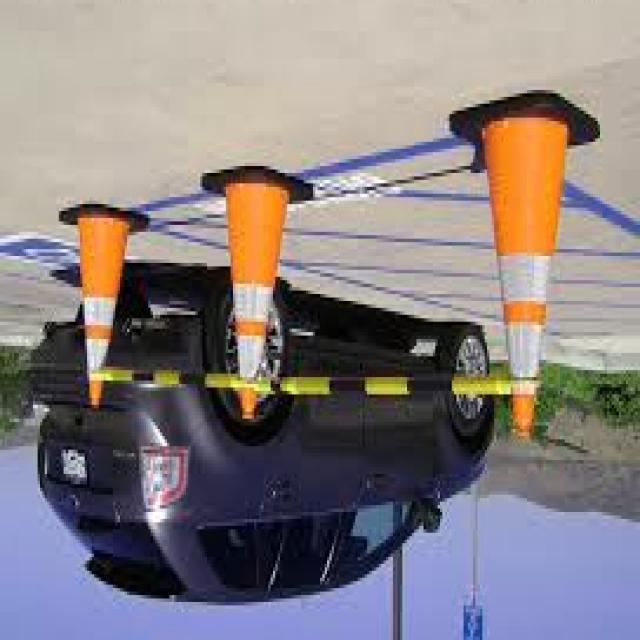cone: (448, 81, 605, 462), (197, 160, 308, 418), (66, 202, 146, 404)
